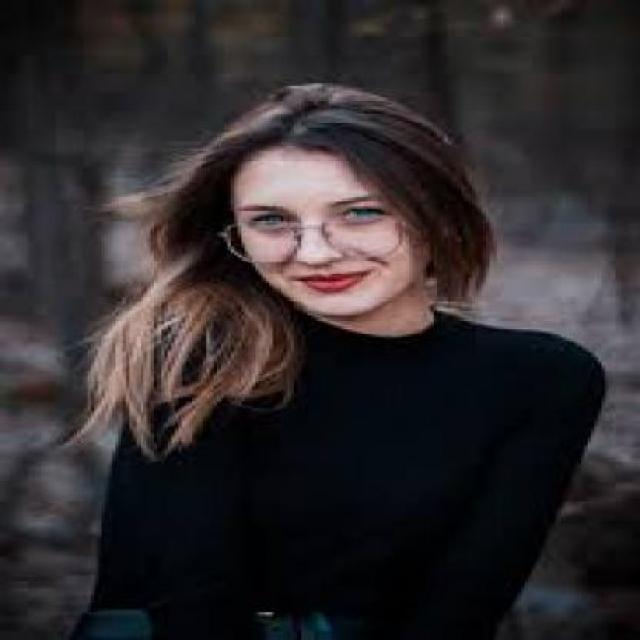glasses: (208, 199, 435, 273)
